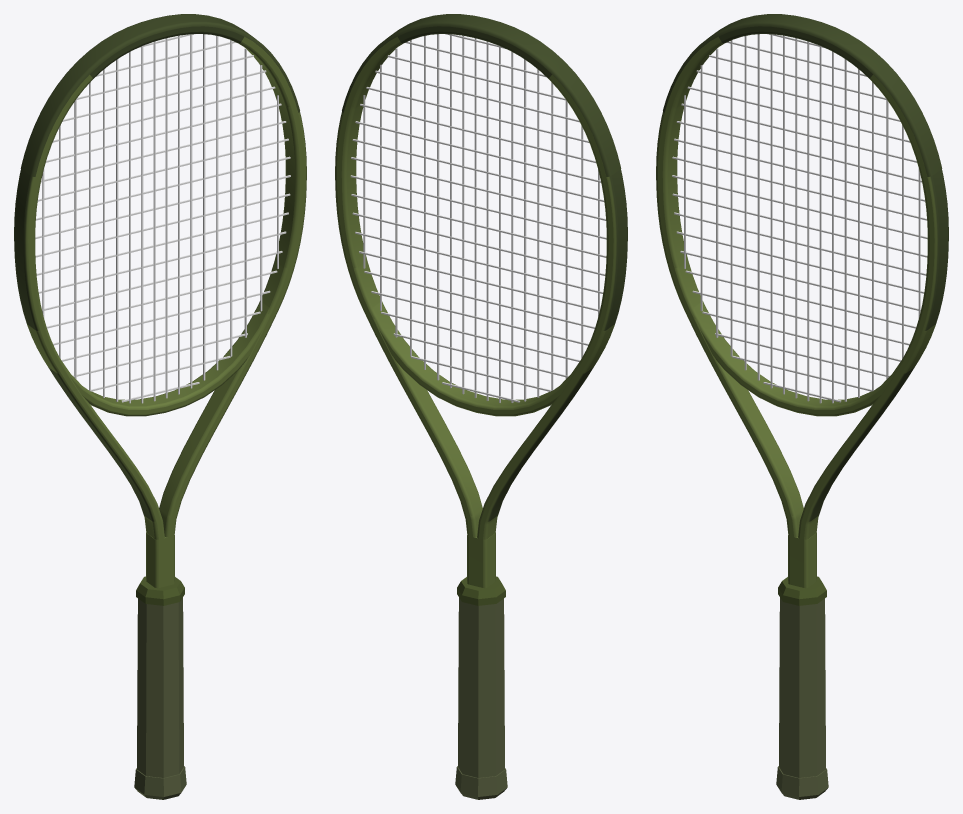
File: prince-phantom-100x-18x20-2024.glb
3 views of the same model, side by side, from view 1: azimuth 30°, elevation 25°; view 2: azimuth 150°, elevation 25°; view 3: azimuth 330°, elevation 25° (orthographic).
Visible parts, largest first — view 1: frame, strings_mains, strings_crosses, grip, bumper, butt_cap, collar; view 2: frame, strings_mains, strings_crosses, grip, bumper, butt_cap, collar; view 3: frame, strings_mains, strings_crosses, grip, bumper, butt_cap, collar.
Boxes of the visible parts, x1=… form: frame: x1=14, y1=26, x2=306, y2=588; strings_mains: x1=42, y1=34, x2=278, y2=403; strings_crosses: x1=35, y1=34, x2=290, y2=402; grip: x1=137, y1=598, x2=183, y2=777; bumper: x1=20, y1=14, x2=299, y2=176; butt_cap: x1=134, y1=766, x2=186, y2=799; collar: x1=136, y1=576, x2=184, y2=605; frame: x1=335, y1=26, x2=627, y2=588; strings_mains: x1=363, y1=34, x2=599, y2=402; strings_crosses: x1=350, y1=34, x2=606, y2=402; grip: x1=458, y1=598, x2=504, y2=777; bumper: x1=342, y1=14, x2=621, y2=176; butt_cap: x1=455, y1=766, x2=507, y2=799; collar: x1=457, y1=576, x2=505, y2=605; frame: x1=656, y1=26, x2=948, y2=588; strings_mains: x1=684, y1=34, x2=920, y2=403; strings_crosses: x1=672, y1=34, x2=927, y2=402; grip: x1=779, y1=598, x2=825, y2=777; bumper: x1=663, y1=14, x2=942, y2=176; butt_cap: x1=776, y1=766, x2=828, y2=799; collar: x1=778, y1=576, x2=826, y2=605.
Bounding box in the file's own units: 0.2649 × 0.6861 × 0.0396.
